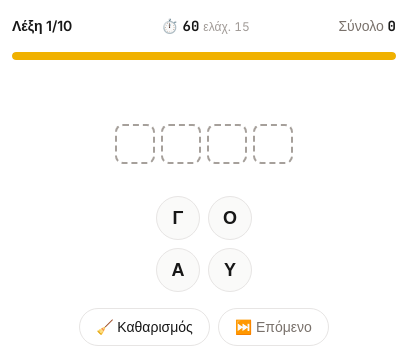
LeksodromiaBoard › tapping the answer row removes only the most recent letter
Click the button "γ" at (178, 218), box [156,196,200,240]
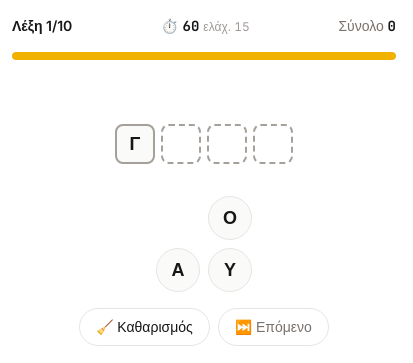
Click the button "ο" at (230, 218), box [208,196,252,240]
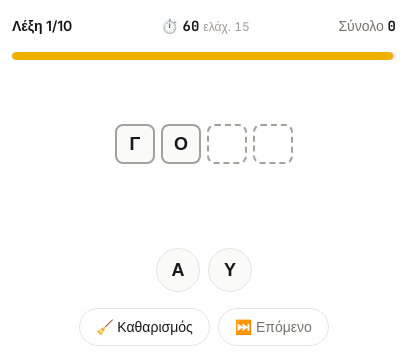
Click the button "α" at (178, 270), box [156,248,200,292]
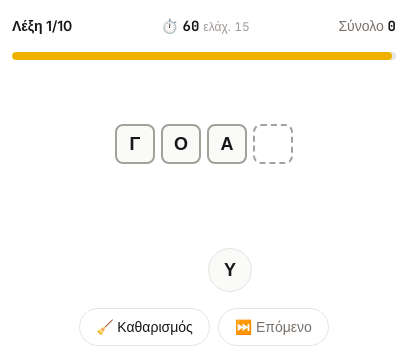
Expected: the button with test id "answer-row" reads "γ ο α"
Click the button with test id "answer-row" at (204, 144), box [115,124,293,164]
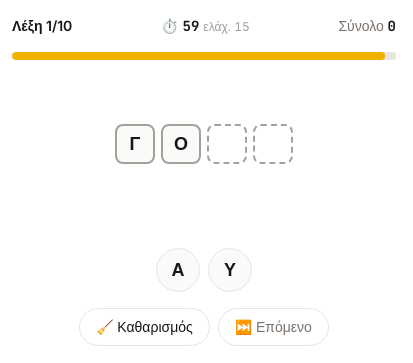
Expected: the text "Λέξη 1/10" is shown, [12,16,72,36]
Expected: the button with test id "answer-row" reads "γ ο", [115,124,293,164]
